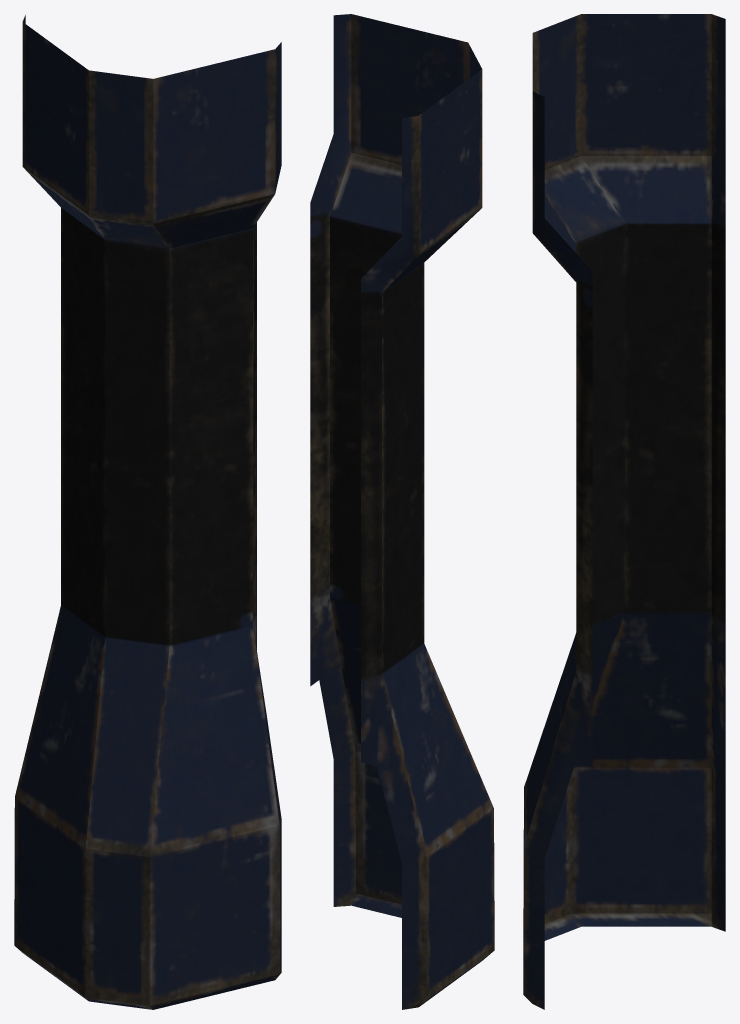
The model's file is mesh_BuildingA_TrimCornerOuter_v2.3.fbx.
The picture shows the model from 3 angles, left to right: view 1: azimuth 30°, elevation 25°; view 2: azimuth 150°, elevation 25°; view 3: azimuth 270°, elevation 25°; orthographic projection. The views are drawn at different scales.
Visible parts, largest first — view 1: mesh_BuildingA_TrimCornerOuter; view 2: mesh_BuildingA_TrimCornerOuter; view 3: mesh_BuildingA_TrimCornerOuter.
Part boxes in pixels (left/top/right/bottom): mesh_BuildingA_TrimCornerOuter: left=14, top=15, right=281, bottom=1009; mesh_BuildingA_TrimCornerOuter: left=310, top=14, right=494, bottom=1009; mesh_BuildingA_TrimCornerOuter: left=523, top=14, right=725, bottom=1009.
Bounding box in the file's own units: 41 × 200 × 40.21.
